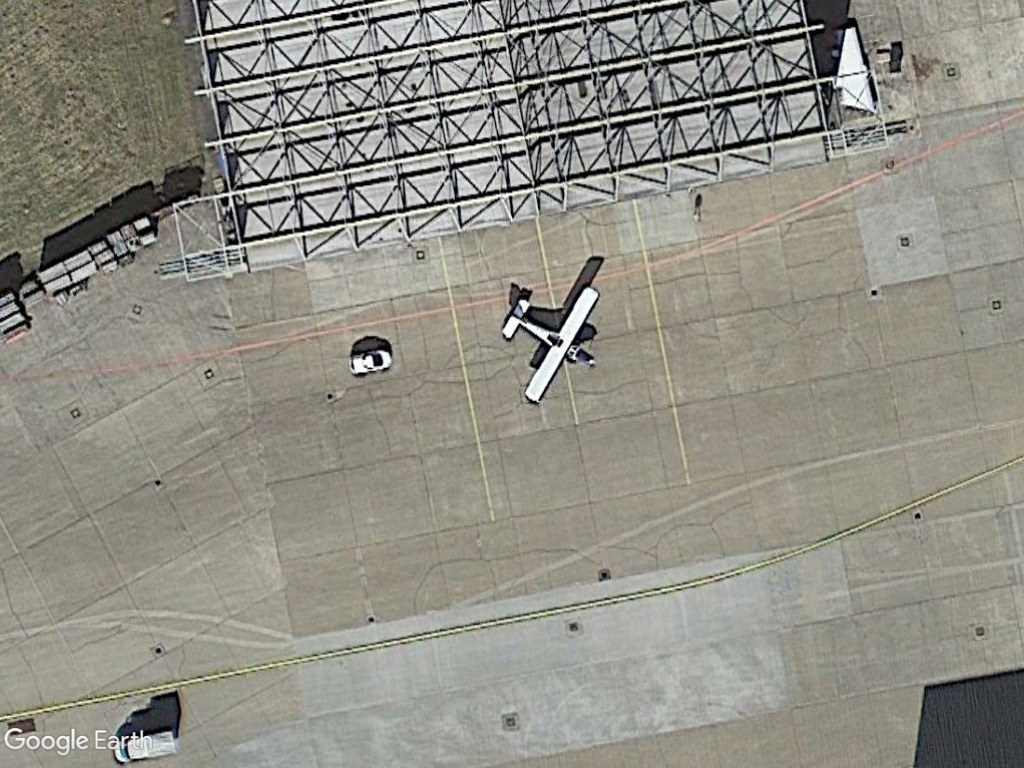trainer: (494, 279, 603, 406)
